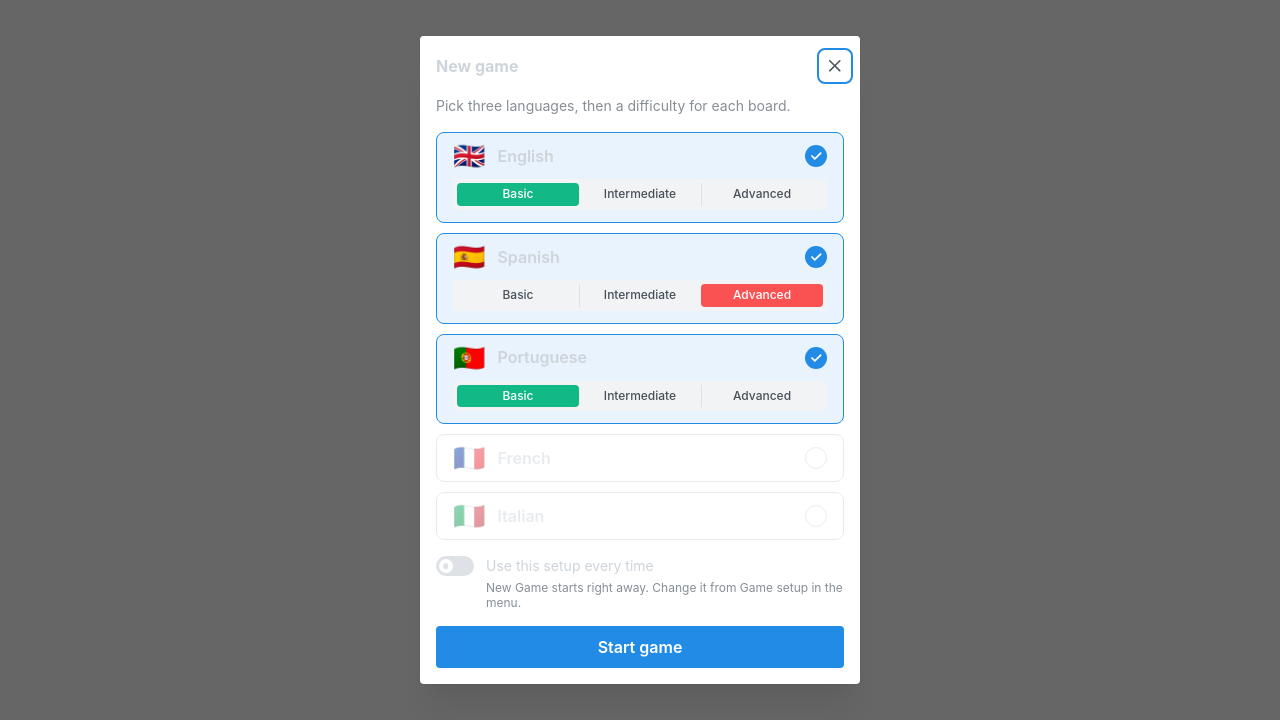
Test: GameSetupDialog › keeps the dialog open after creation fails and lets the player retry
What coordinates should you click on to do the following:
click the button "Start game"
I would click on:
 (640, 647)
Its box is [436,626,844,668].
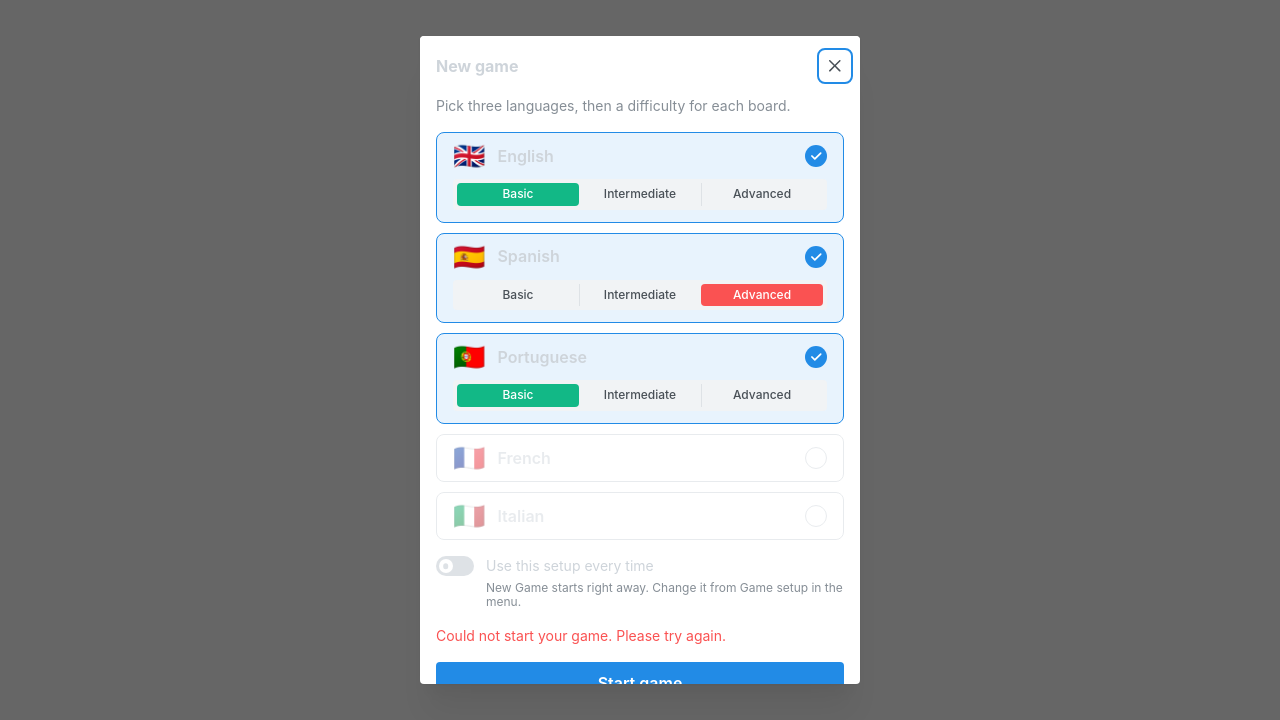
Check: the message reads "Could not start your game. Please try again.", box [436,627,726,644]
What coordinates should you click on to do the following:
click the button "Start game"
I would click on:
 (640, 683)
Its box is [436,662,844,704].
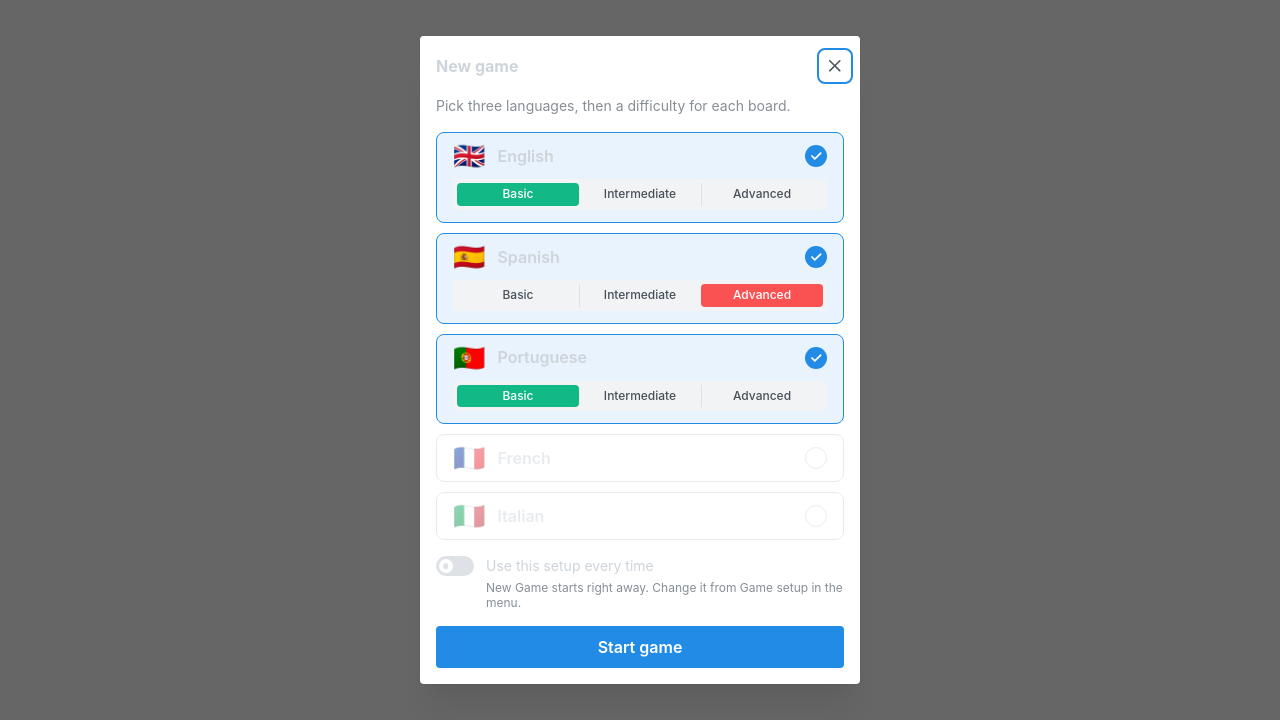
Check: the message "Could not start your game. Please try again." is gone
